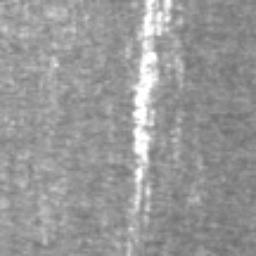White rust: (128, 0, 172, 214)
